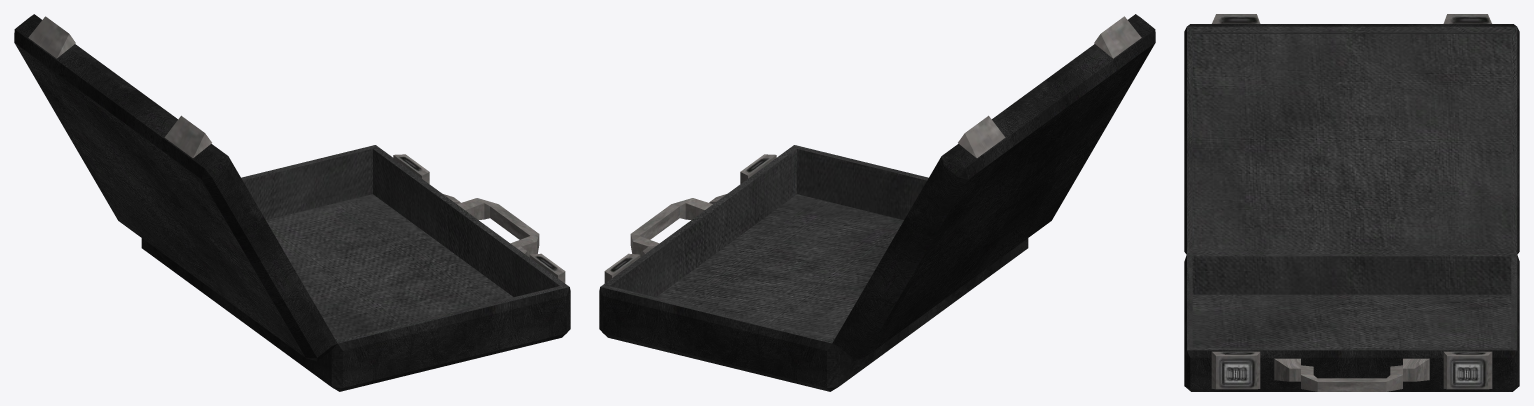
File: suitcase01.gltf
3 views of the same model, side by side, from view 1: azimuth 30°, elevation 25°; view 2: azimuth 150°, elevation 25°; view 3: azimuth 270°, elevation 25° (orthographic). The views are drawn at different scales.
Visible parts, largest first — view 1: Bottom, Top; view 2: Bottom, Top; view 3: Top, Bottom.
Part boxes in pixels (<box>): Bottom: <box>141,145,570,391</box>; Top: <box>14,14,337,361</box>; Bottom: <box>599,145,1028,391</box>; Top: <box>832,14,1155,361</box>; Top: <box>1184,14,1519,254</box>; Bottom: <box>1184,254,1519,391</box>.
Size of the model in its own units: 0.5865 by 0.3782 by 0.4873.
1 material, 1 textured.
